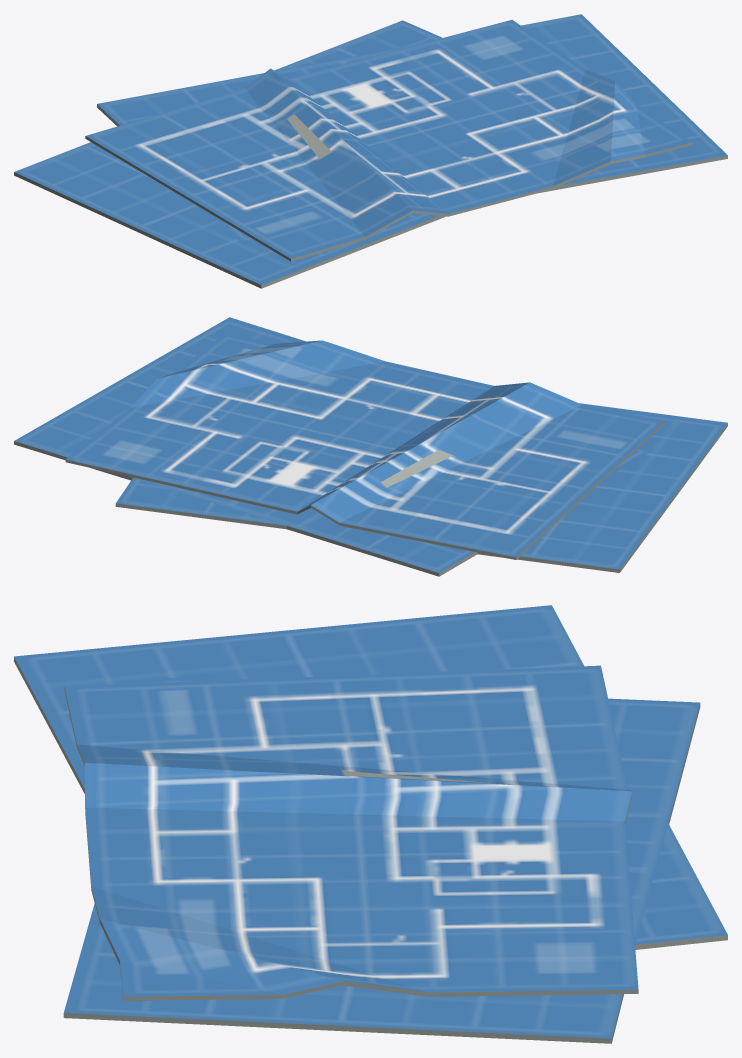
File: SM_Prop_Plans_06.fbx
3 views of the same model, one above another, from view 1: azimuth 30°, elevation 25°; view 2: azimuth 150°, elevation 25°; view 3: azimuth 270°, elevation 25° (orthographic). The views are drawn at different scales.
Parts seen in each view (by area): view 1: SM_Prop_Plans_06; view 2: SM_Prop_Plans_06; view 3: SM_Prop_Plans_06.
Boxes of the visible parts, x1,y1,x2,y2 form: SM_Prop_Plans_06: (14,14,727,288); SM_Prop_Plans_06: (14,317,727,576); SM_Prop_Plans_06: (14,605,727,1043).
Bounding box in the file's own units: 114 × 3.44 × 79.56.
